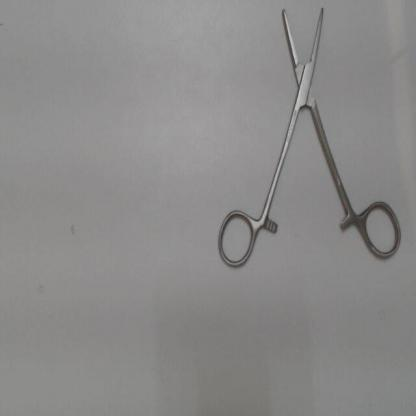Mayo Needle Holder: (210, 4, 407, 273)
